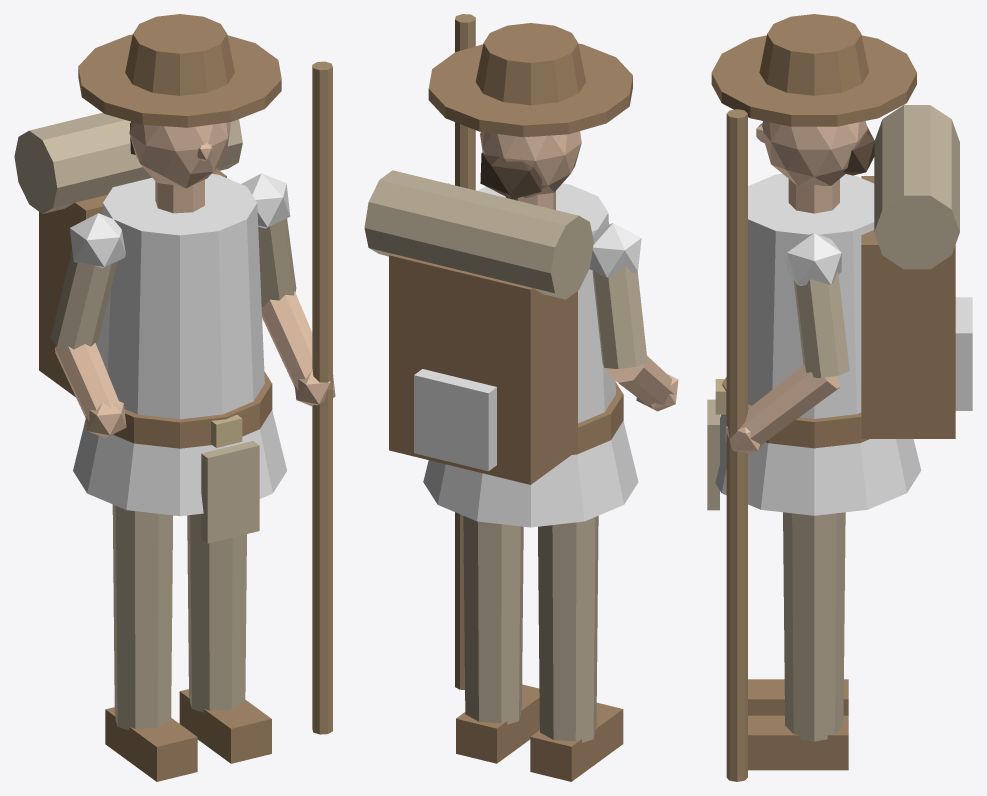
Rendered from civ_unit_settler.glb.
The picture shows the model from 3 angles, left to right: view 1: azimuth 30°, elevation 25°; view 2: azimuth 150°, elevation 25°; view 3: azimuth 270°, elevation 25°; orthographic projection.
Parts seen in each view (by area): view 1: civ_unit_settler; view 2: civ_unit_settler; view 3: civ_unit_settler.
Part boxes in pixels (x1,y1,x2,y2): civ_unit_settler: (14,14,335,781); civ_unit_settler: (364,14,678,781); civ_unit_settler: (707,14,972,781).
Size of the model in its own units: 0.6451 by 1.82 by 0.62.
